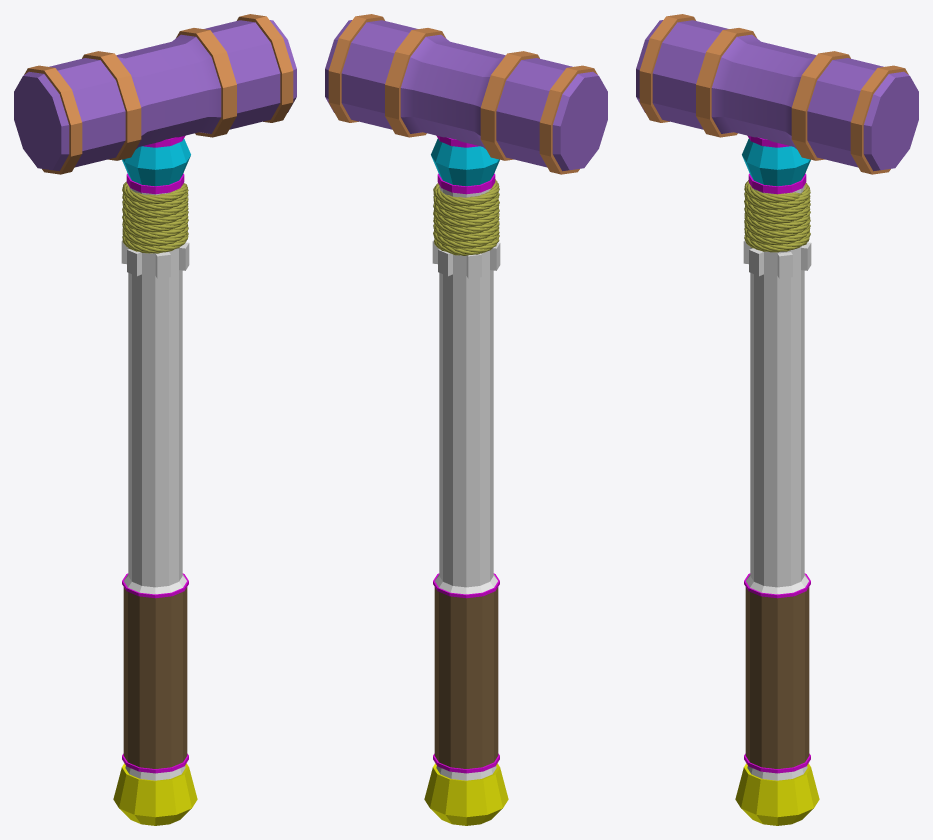
Rendered from WarhammerLP_ID.fbx.
The picture shows the model from 3 angles, left to right: view 1: azimuth 30°, elevation 25°; view 2: azimuth 150°, elevation 25°; view 3: azimuth 330°, elevation 25°; orthographic projection.
Parts seen in each view (by area): view 1: Handle_id, Head_id, Rope_id; view 2: Handle_id, Head_id, Rope_id; view 3: Handle_id, Head_id, Rope_id.
Part boxes in pixels (x1,y1,x2,y2): Handle_id: [113, 135, 197, 825]; Head_id: [14, 14, 296, 174]; Rope_id: [122, 181, 188, 253]; Handle_id: [424, 135, 508, 825]; Head_id: [325, 14, 607, 174]; Rope_id: [433, 179, 499, 255]; Handle_id: [735, 135, 819, 825]; Head_id: [636, 14, 918, 174]; Rope_id: [744, 180, 810, 252].
Bounding box in the file's own units: 7.96 × 24.86 × 3.12.
